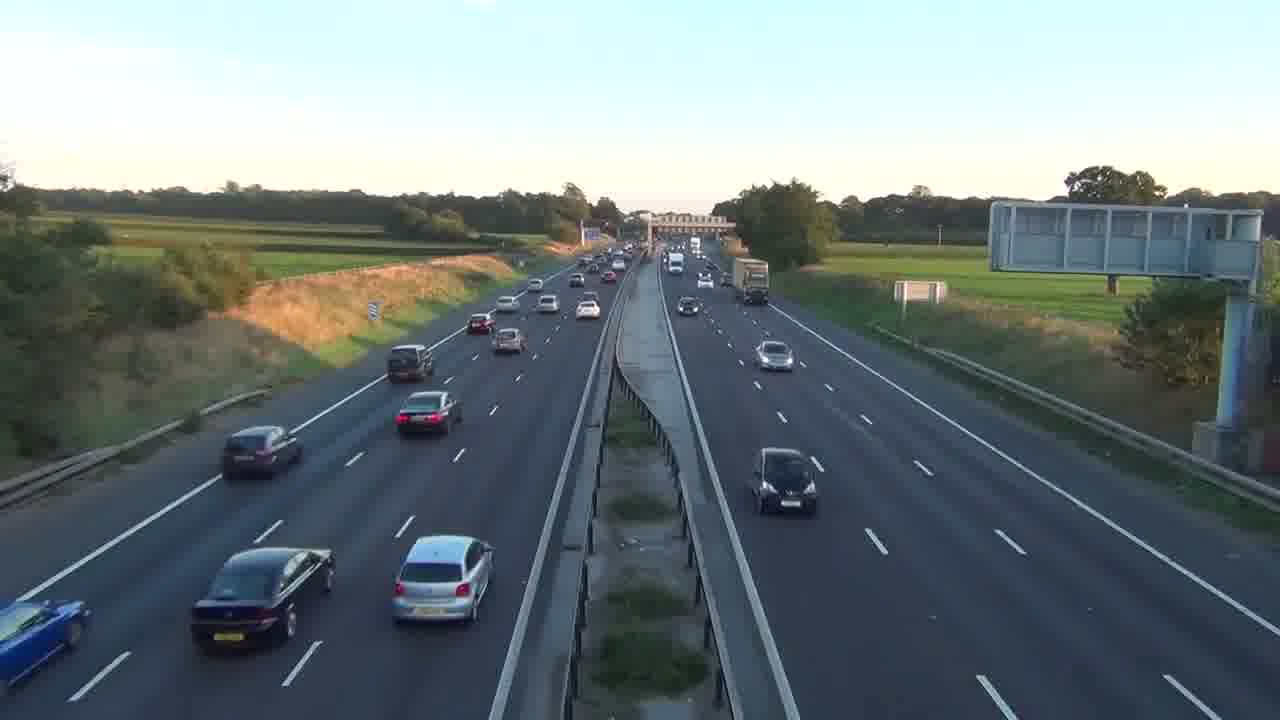car: (389, 533, 496, 627), (0, 596, 93, 689), (750, 446, 823, 517), (221, 424, 305, 480), (394, 390, 457, 437), (385, 344, 433, 383), (754, 339, 794, 373), (491, 326, 524, 355), (575, 298, 601, 320), (536, 293, 561, 314)
truck: (189, 545, 337, 655), (385, 344, 433, 383)
